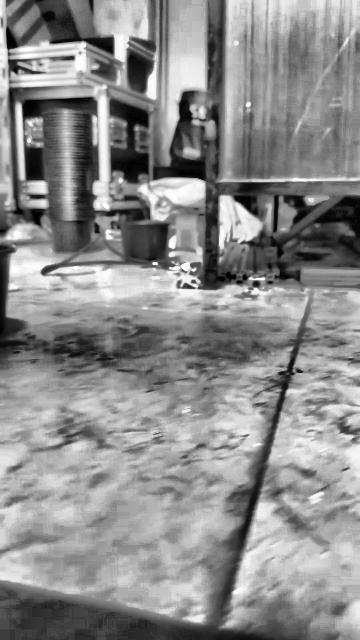pot: (122, 220, 169, 263)
